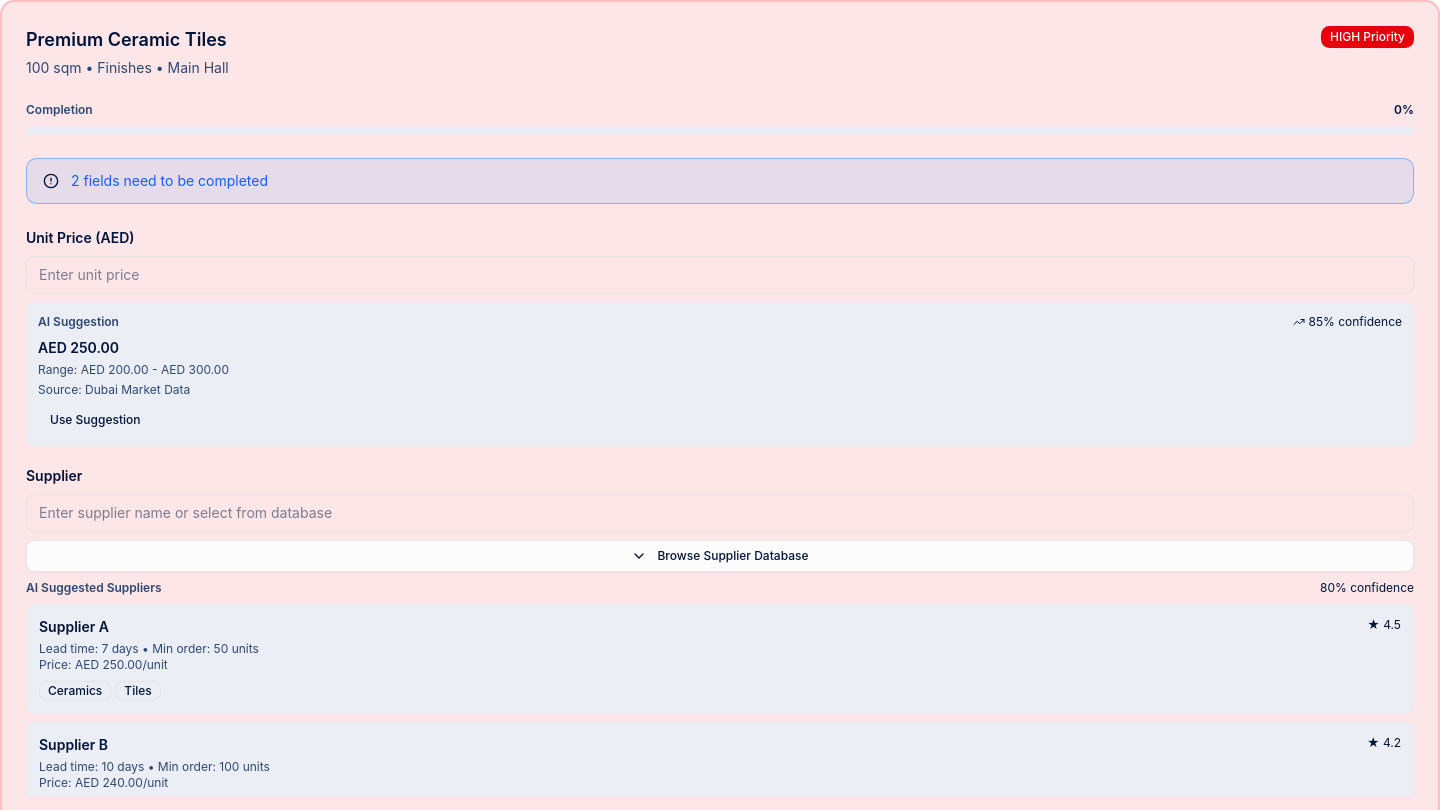
Test: GapCompletionForm Component › AI Suggestions › should allow using suggestion for unit price
Step 1. Click the button "Use Suggestion" → (95, 420), box [38,406,152,434]
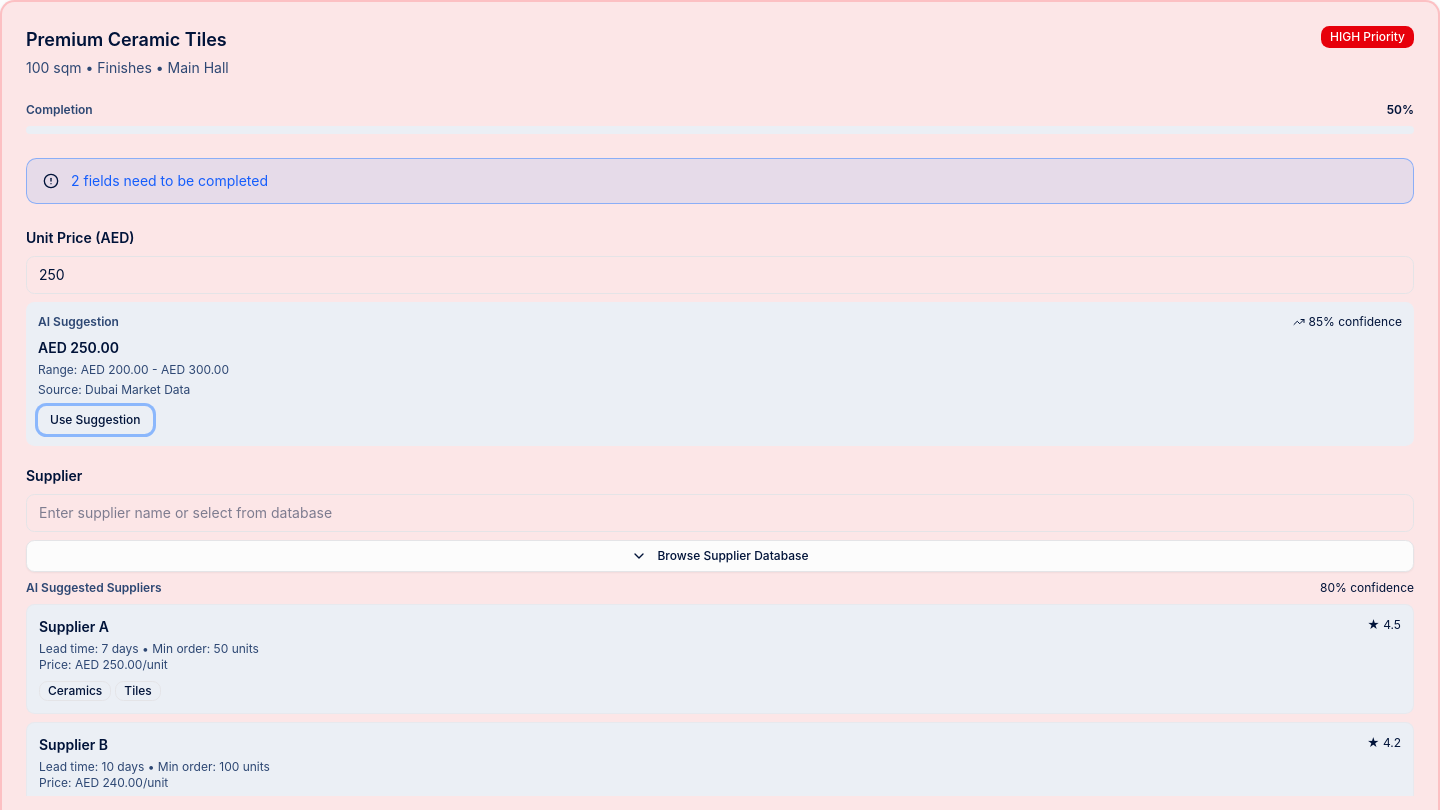
Now the number field with placeholder "Enter unit price" holds "250", box [26,256,1414,294]
